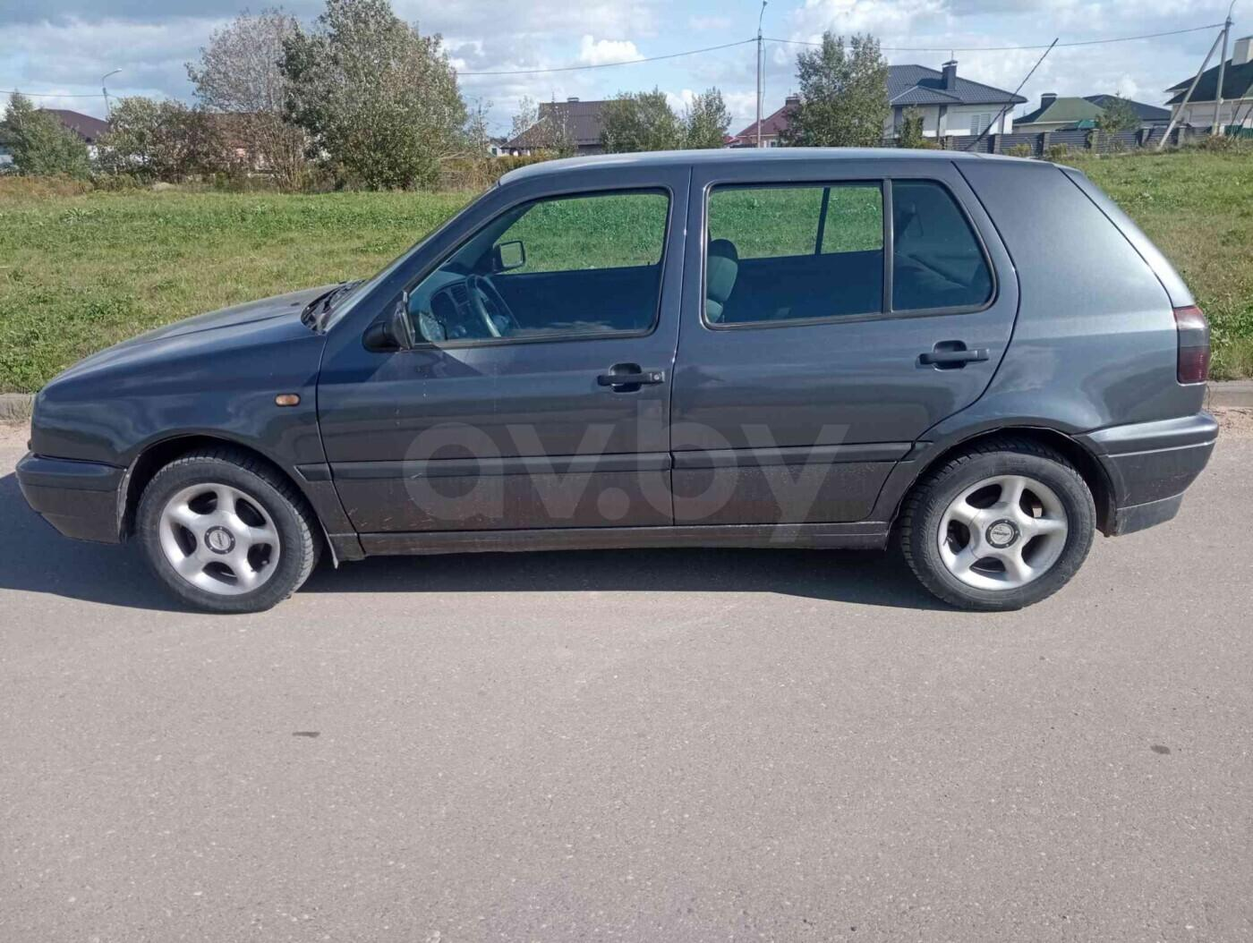Golf_1991-2000: (20, 138, 1224, 618)
